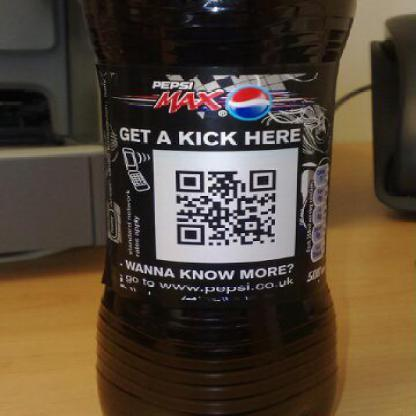qr_code: (175, 170, 276, 246)
